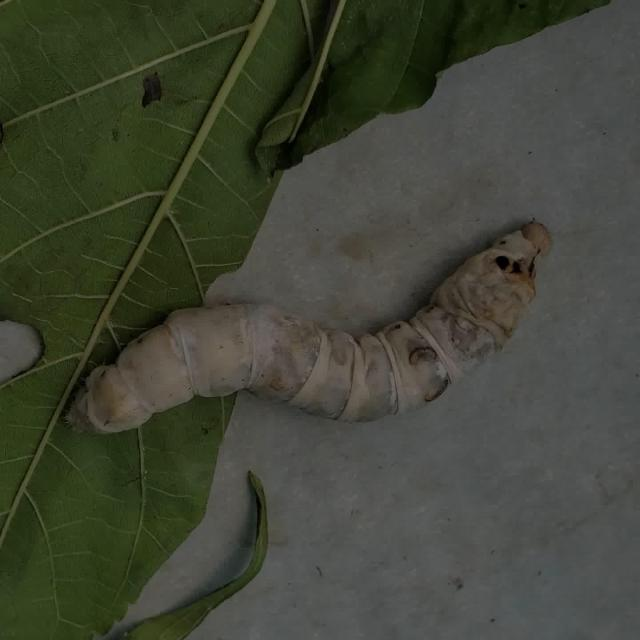Grasserie: (50, 203, 580, 439)
